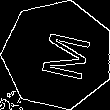M_W: (27, 27, 88, 83)
